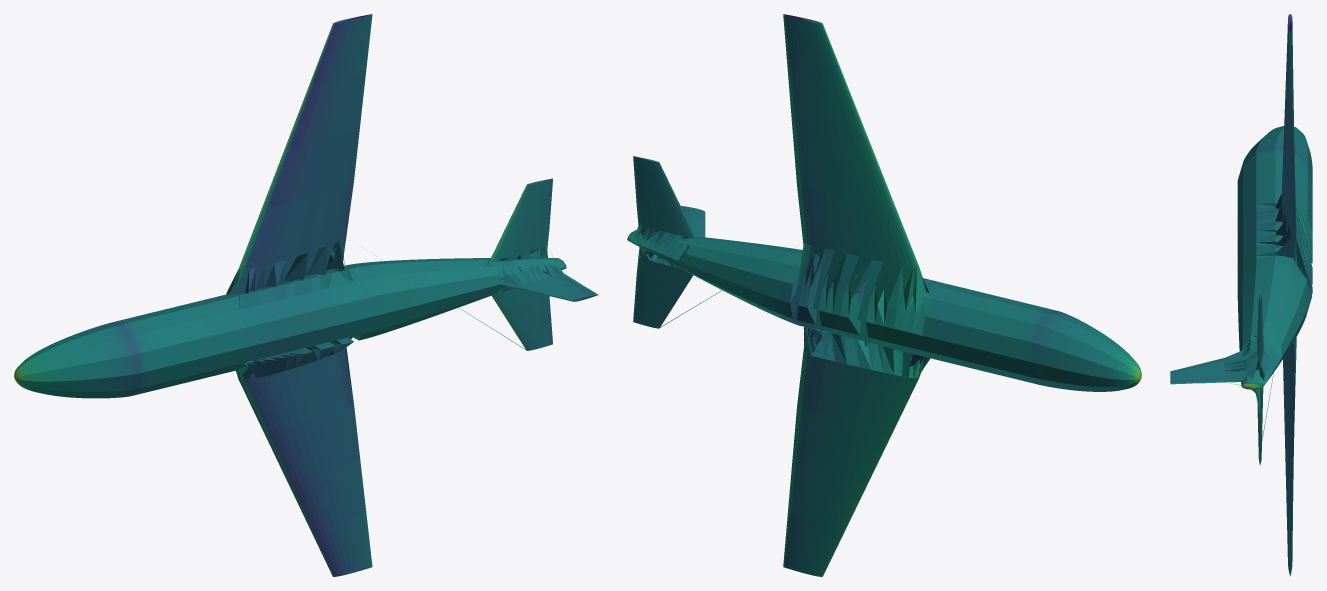
Rendered from 2deg.glb.
3 renders of one model, left to right at view 1: azimuth 30°, elevation 25°; view 2: azimuth 150°, elevation 25°; view 3: azimuth 270°, elevation 25°, orthographic.
Parts seen in each view (by area): view 1: Shape_IndexedFaceSet; view 2: Shape_IndexedFaceSet; view 3: Shape_IndexedFaceSet.
Boxes of the visible parts, <box> form: Shape_IndexedFaceSet: <box>14,14,598,576</box>; Shape_IndexedFaceSet: <box>627,14,1141,576</box>; Shape_IndexedFaceSet: <box>1170,14,1312,576</box>.
Size of the model in its own units: 40 by 40 by 9.5.
